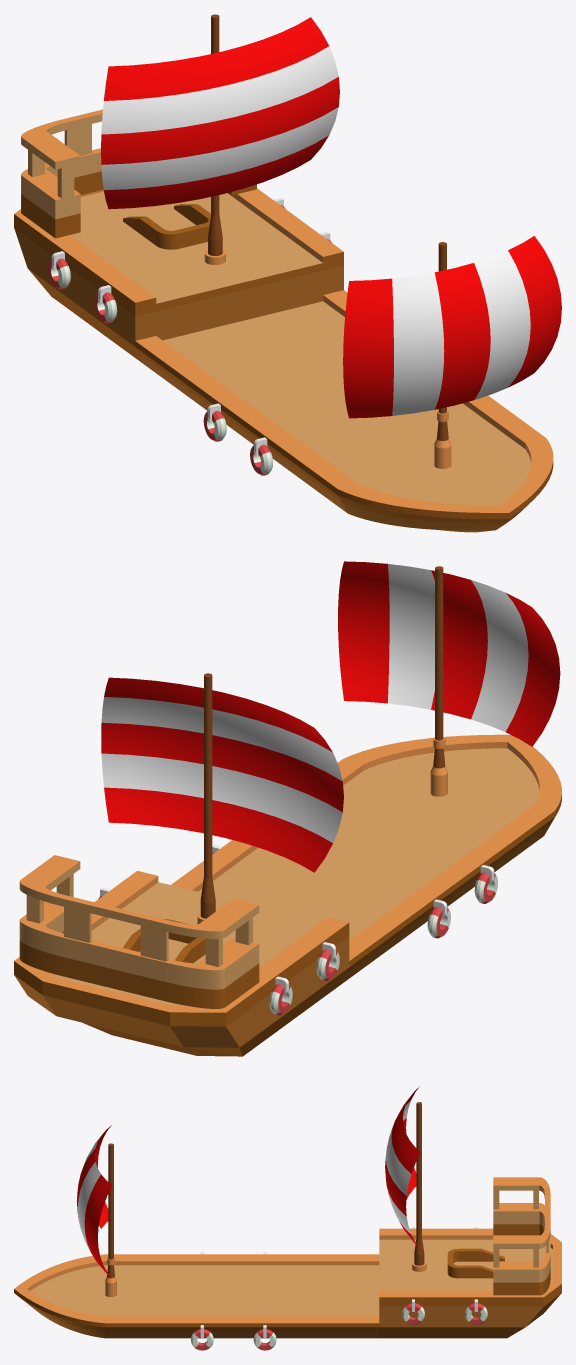
File: ship.fbx
3 views of the same model, one above another, from view 1: azimuth 30°, elevation 25°; view 2: azimuth 150°, elevation 25°; view 3: azimuth 270°, elevation 25° (orthographic). The views are drawn at different scales.
Visible parts, largest first — view 1: mergedBlocks; view 2: mergedBlocks; view 3: mergedBlocks.
Boxes of the visible parts, left/top/right/bottom form: mergedBlocks: left=14, top=14, right=561, bottom=532; mergedBlocks: left=14, top=561, right=561, bottom=1056; mergedBlocks: left=14, top=1086, right=561, bottom=1350.
Size of the model in its own units: 32.76 by 42 by 96.01.
